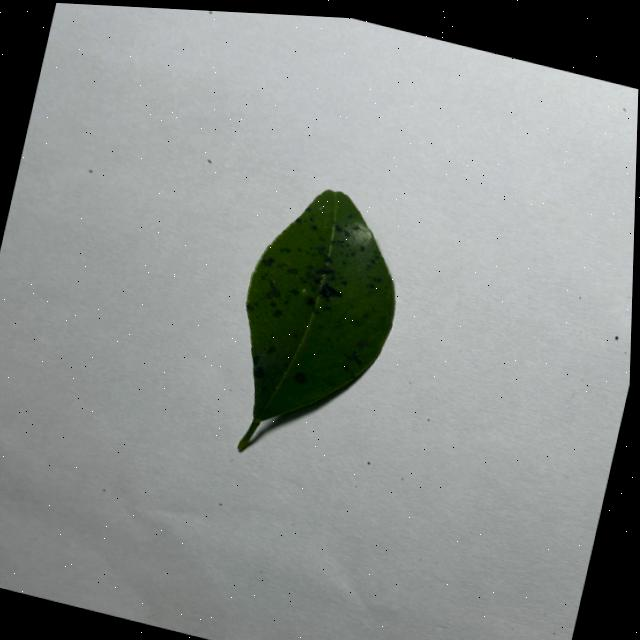sooty_mold: (238, 190, 395, 451)
